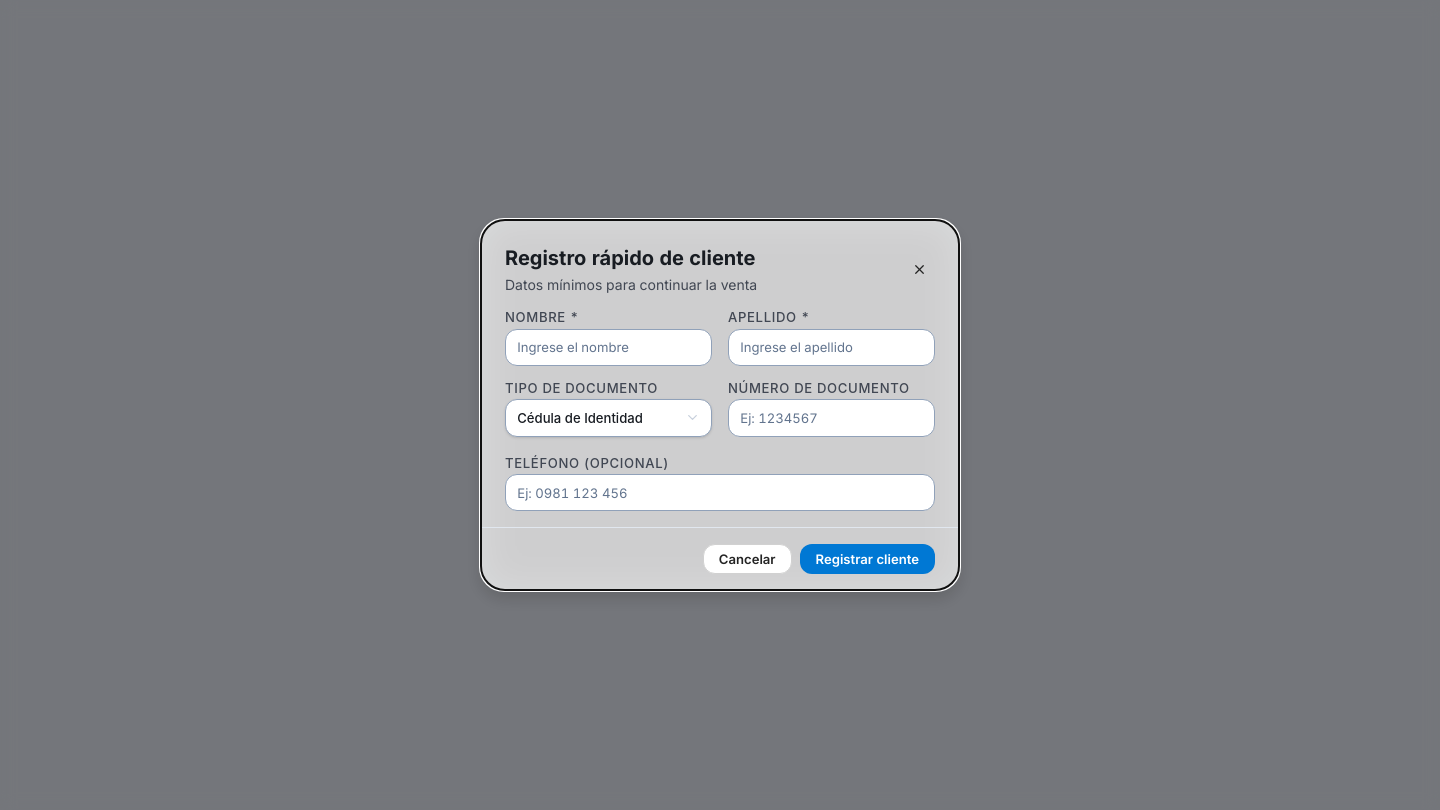
Test: QuickClientModal › muestra el error del backend cuando createClient falla
Type "Maria" into the field labelled "Nombre *" at {"x": 608, "y": 347}, box left=505, top=329, right=712, bottom=366
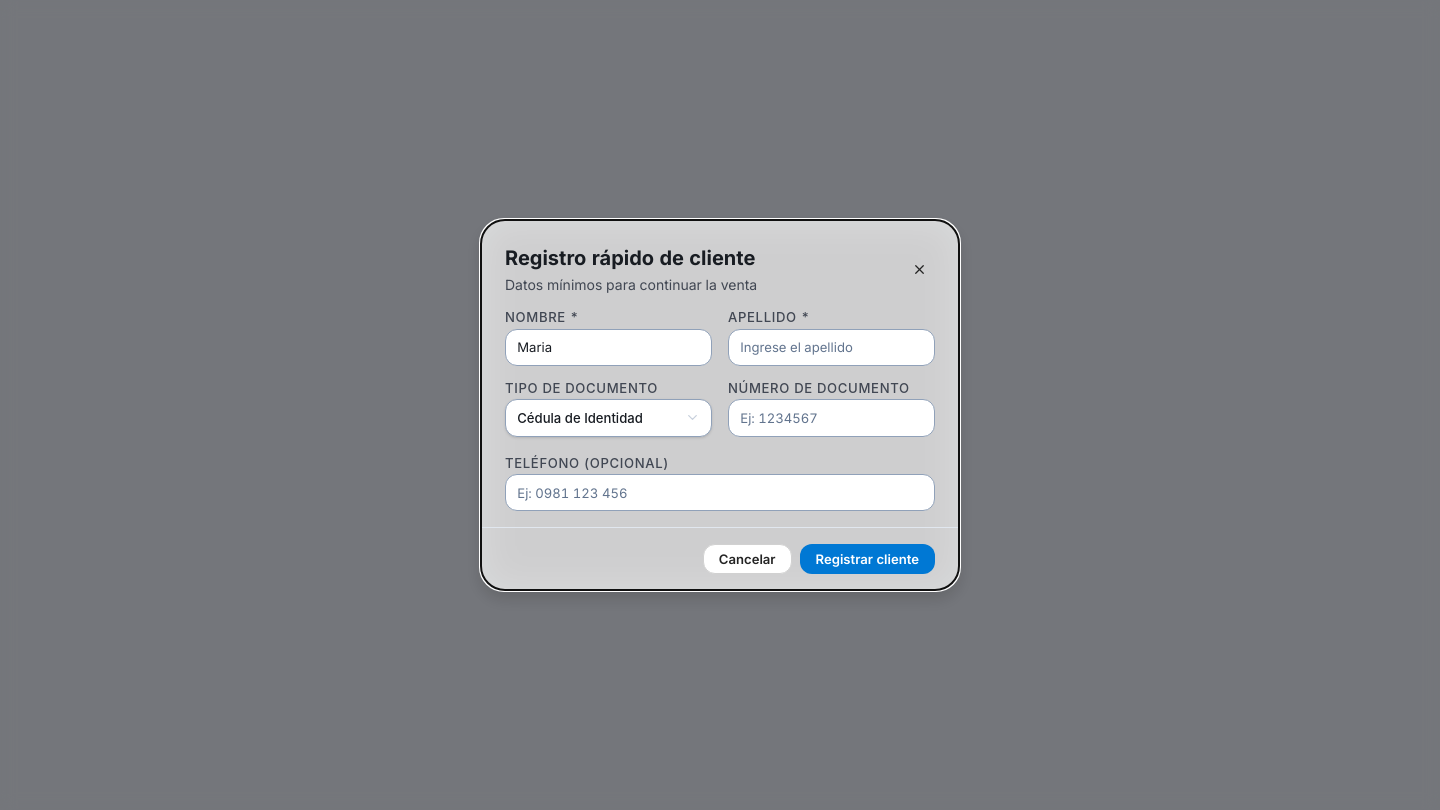
Type "Perez" into the field labelled "Apellido *" at {"x": 832, "y": 347}, box left=728, top=329, right=935, bottom=366
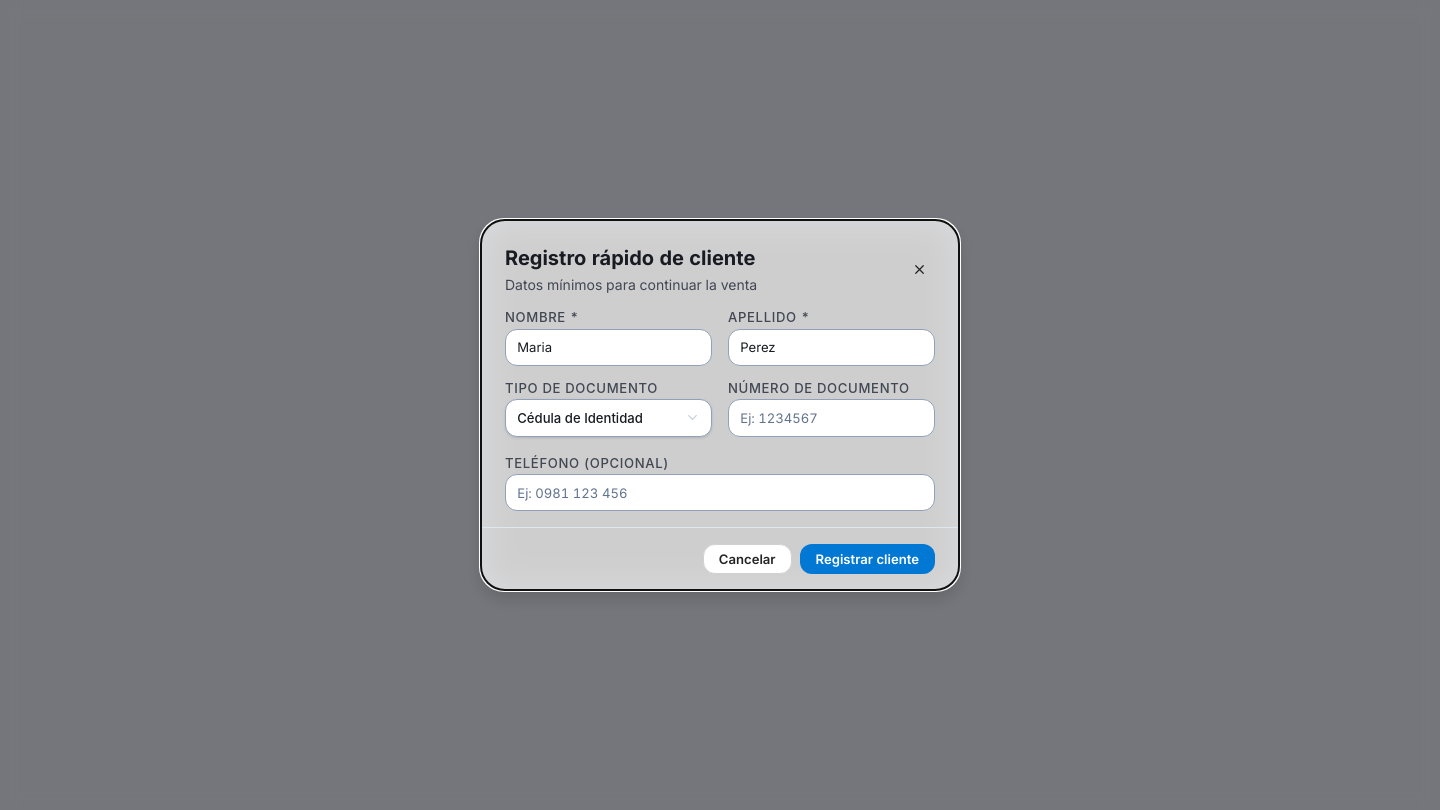
Type "1234567" into the field labelled "Número de documento" at {"x": 832, "y": 418}, box left=728, top=399, right=935, bottom=437
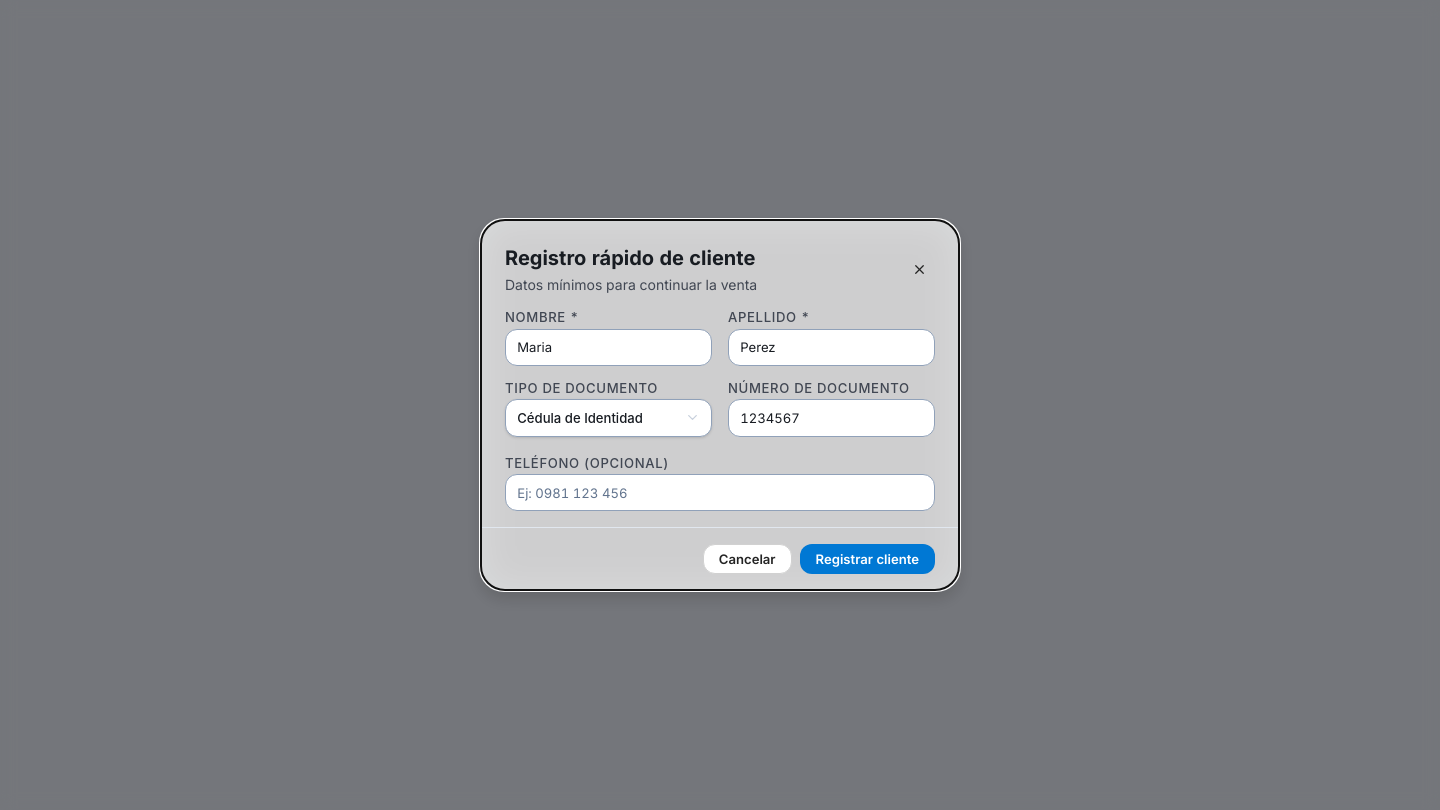
Click the button "Registrar cliente" at {"x": 867, "y": 559}, box left=800, top=544, right=935, bottom=574
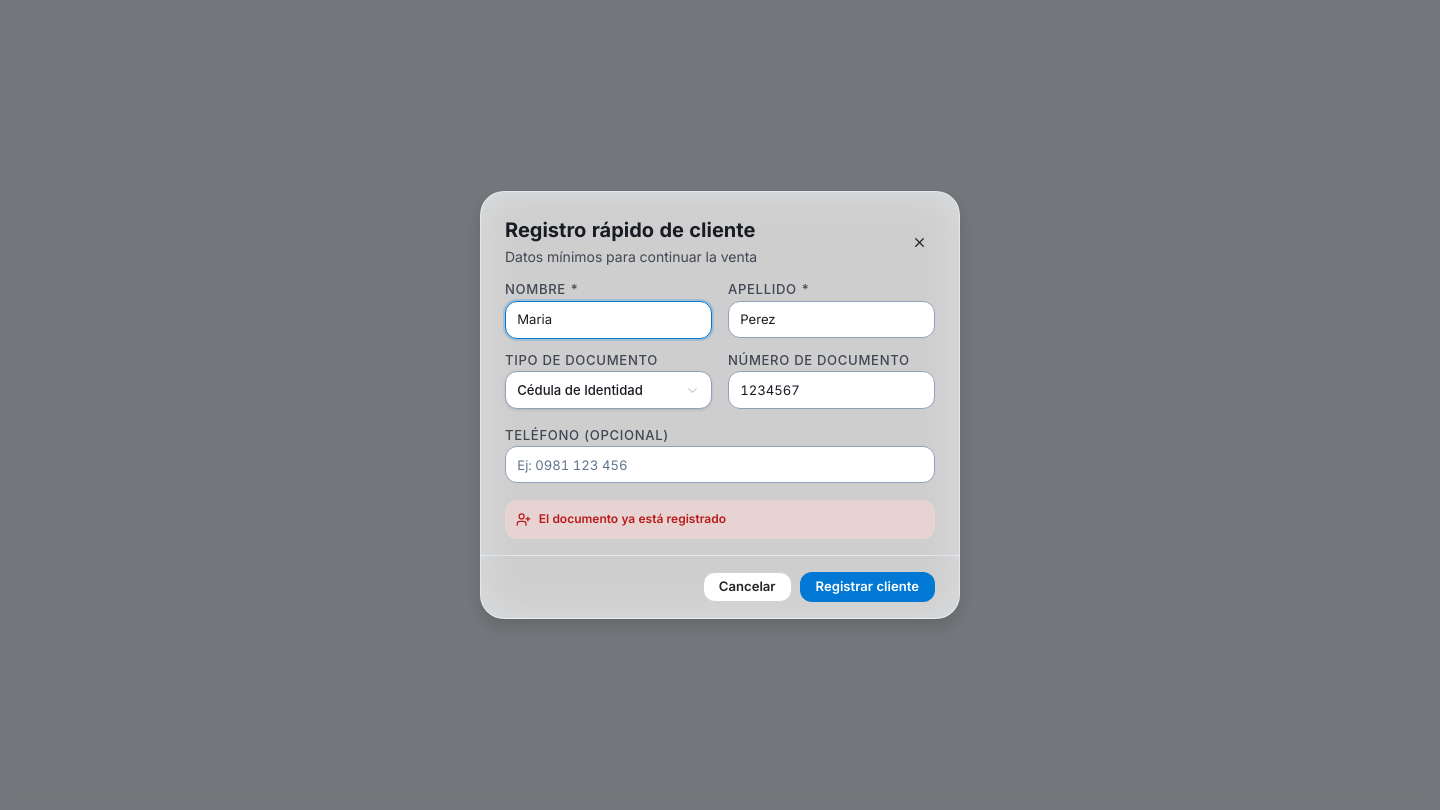
Now the text "El documento ya está registrado" is shown, box left=539, top=511, right=726, bottom=527
